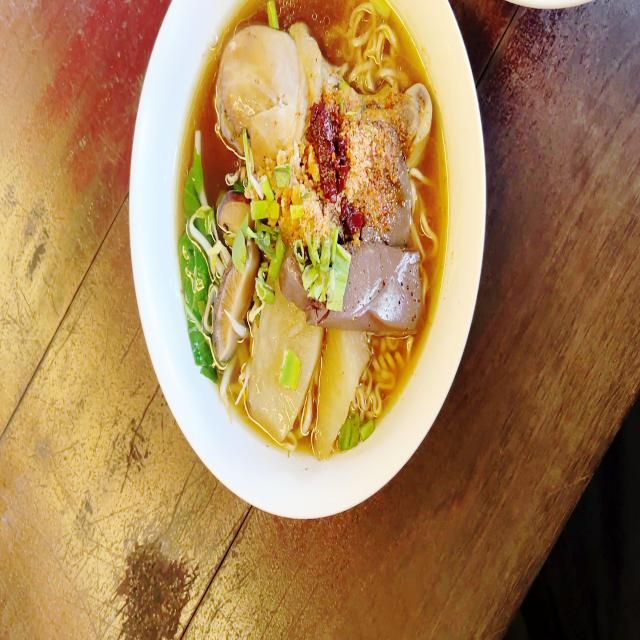boiled_chicken_blood_jelly: (338, 243, 422, 331)
chicken_drumstick: (207, 31, 431, 170)
daikon_radish: (253, 304, 359, 437)
noodle: (173, 0, 450, 456)
